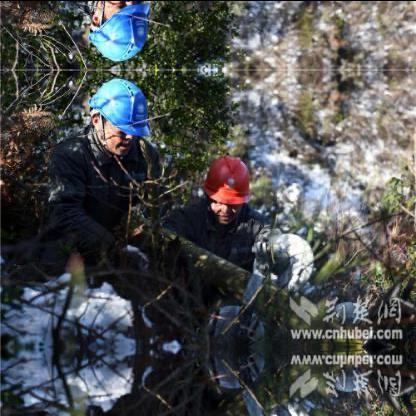Helmet: (82, 70, 152, 158), (81, 0, 153, 66), (198, 150, 254, 218)
